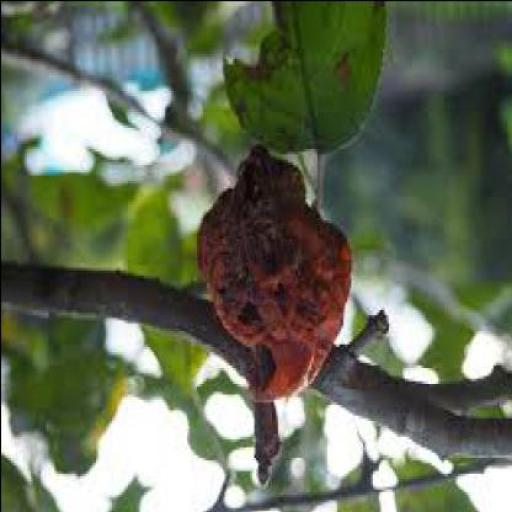biodegradable: (195, 145, 350, 404)
